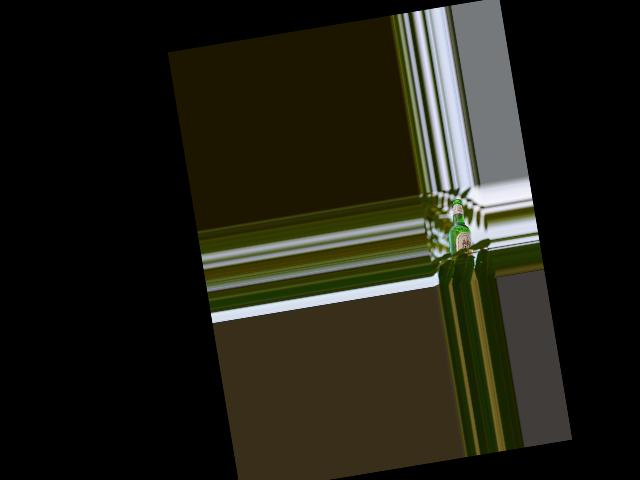beer: (442, 197, 474, 260)
